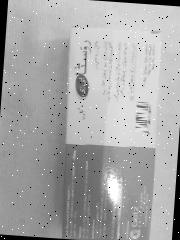paper: (55, 25, 164, 240)
